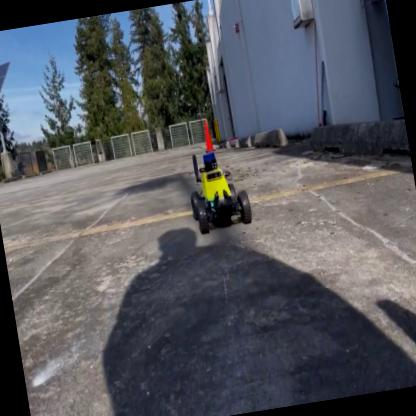cone: (198, 116, 214, 156)
mushr_car: (182, 143, 254, 236)
